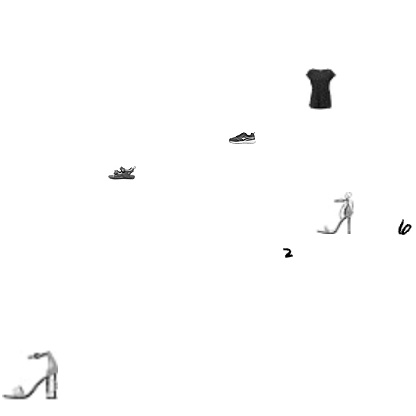2: (281, 246, 295, 260)
6: (393, 217, 415, 239)
Sandal: (2, 347, 58, 403), (313, 192, 355, 234), (108, 159, 136, 187)
Sneaker: (228, 124, 256, 152)
T-shirt/top: (300, 68, 342, 110)
